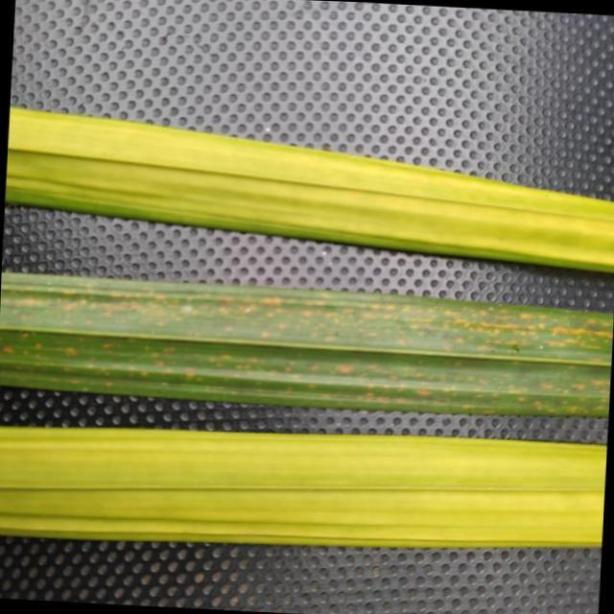nitrogen: (7, 98, 614, 276), (5, 272, 614, 420), (3, 417, 608, 555)
